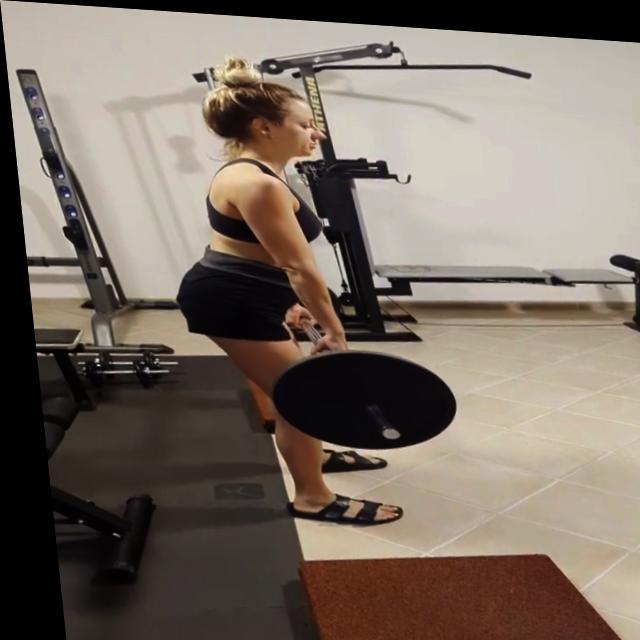barbell: (257, 338, 455, 453)
